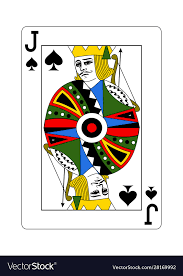jack of spades: (21, 27, 163, 230)
